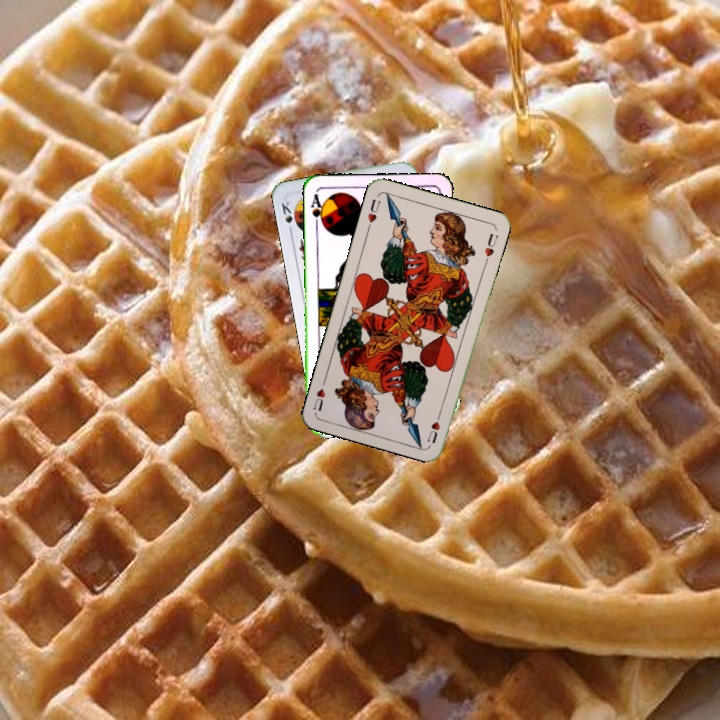HU: (423, 407, 444, 446), (363, 195, 383, 232)
SA: (307, 190, 327, 230)
SK: (277, 197, 301, 237)
